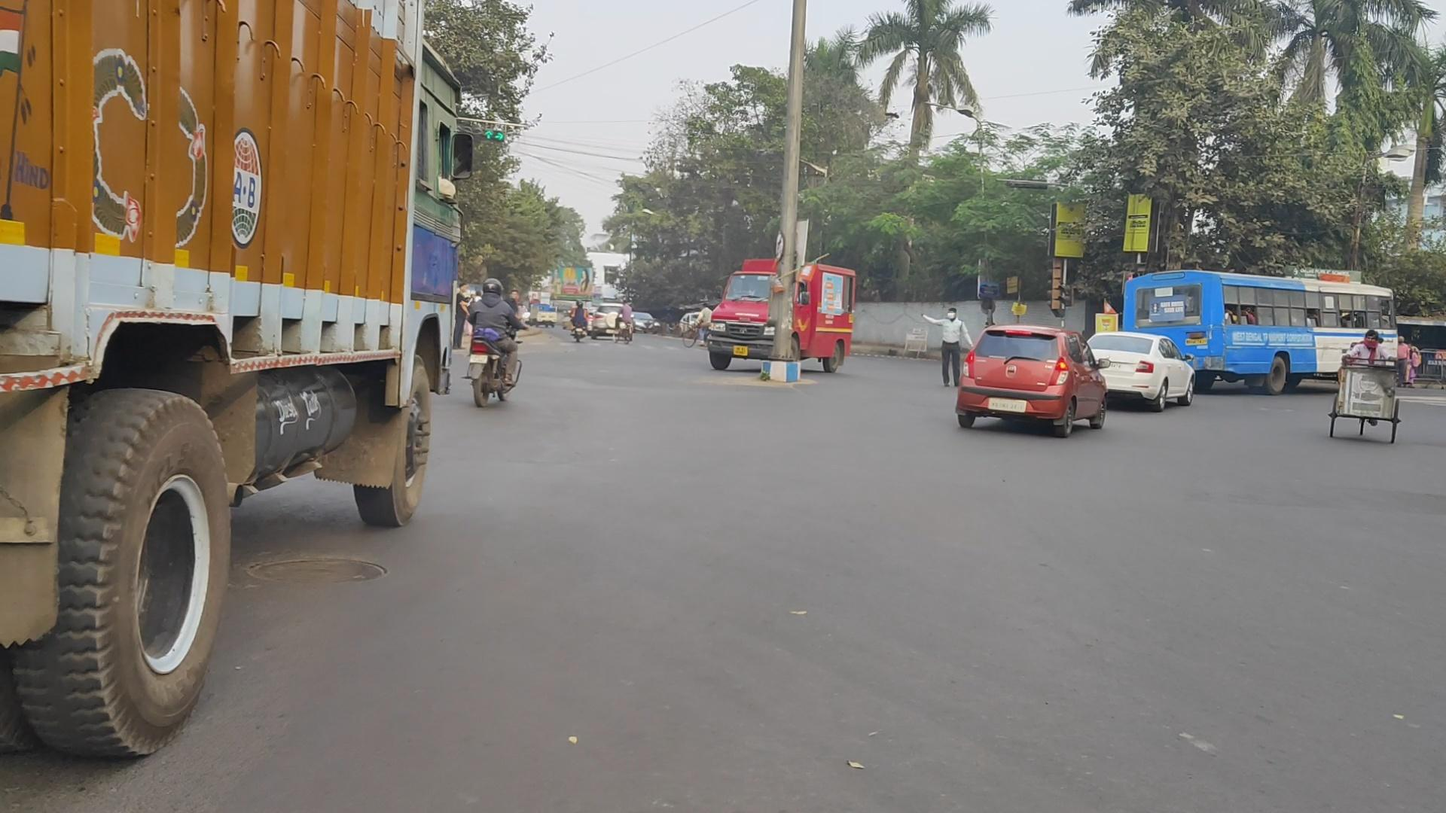Bus: (1121, 269, 1399, 395)
bike: (463, 278, 527, 408), (682, 302, 713, 348), (612, 300, 634, 346), (570, 297, 590, 344)
car: (956, 324, 1110, 437), (1081, 331, 1195, 413)
truck: (2, 2, 474, 813), (706, 256, 856, 373)
